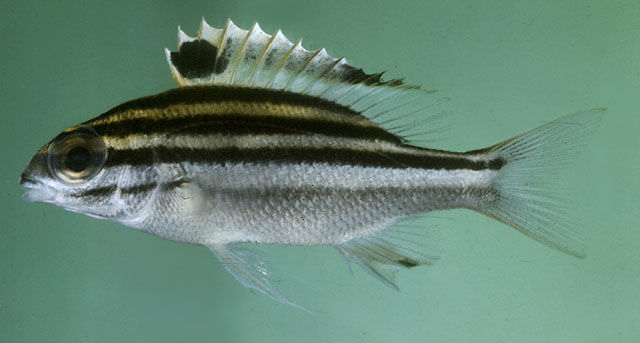fish: (17, 15, 609, 315)
